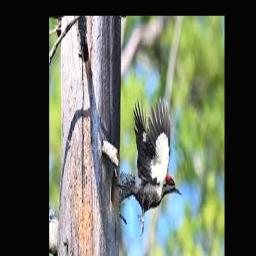Woodpecker: (116, 97, 183, 236)
